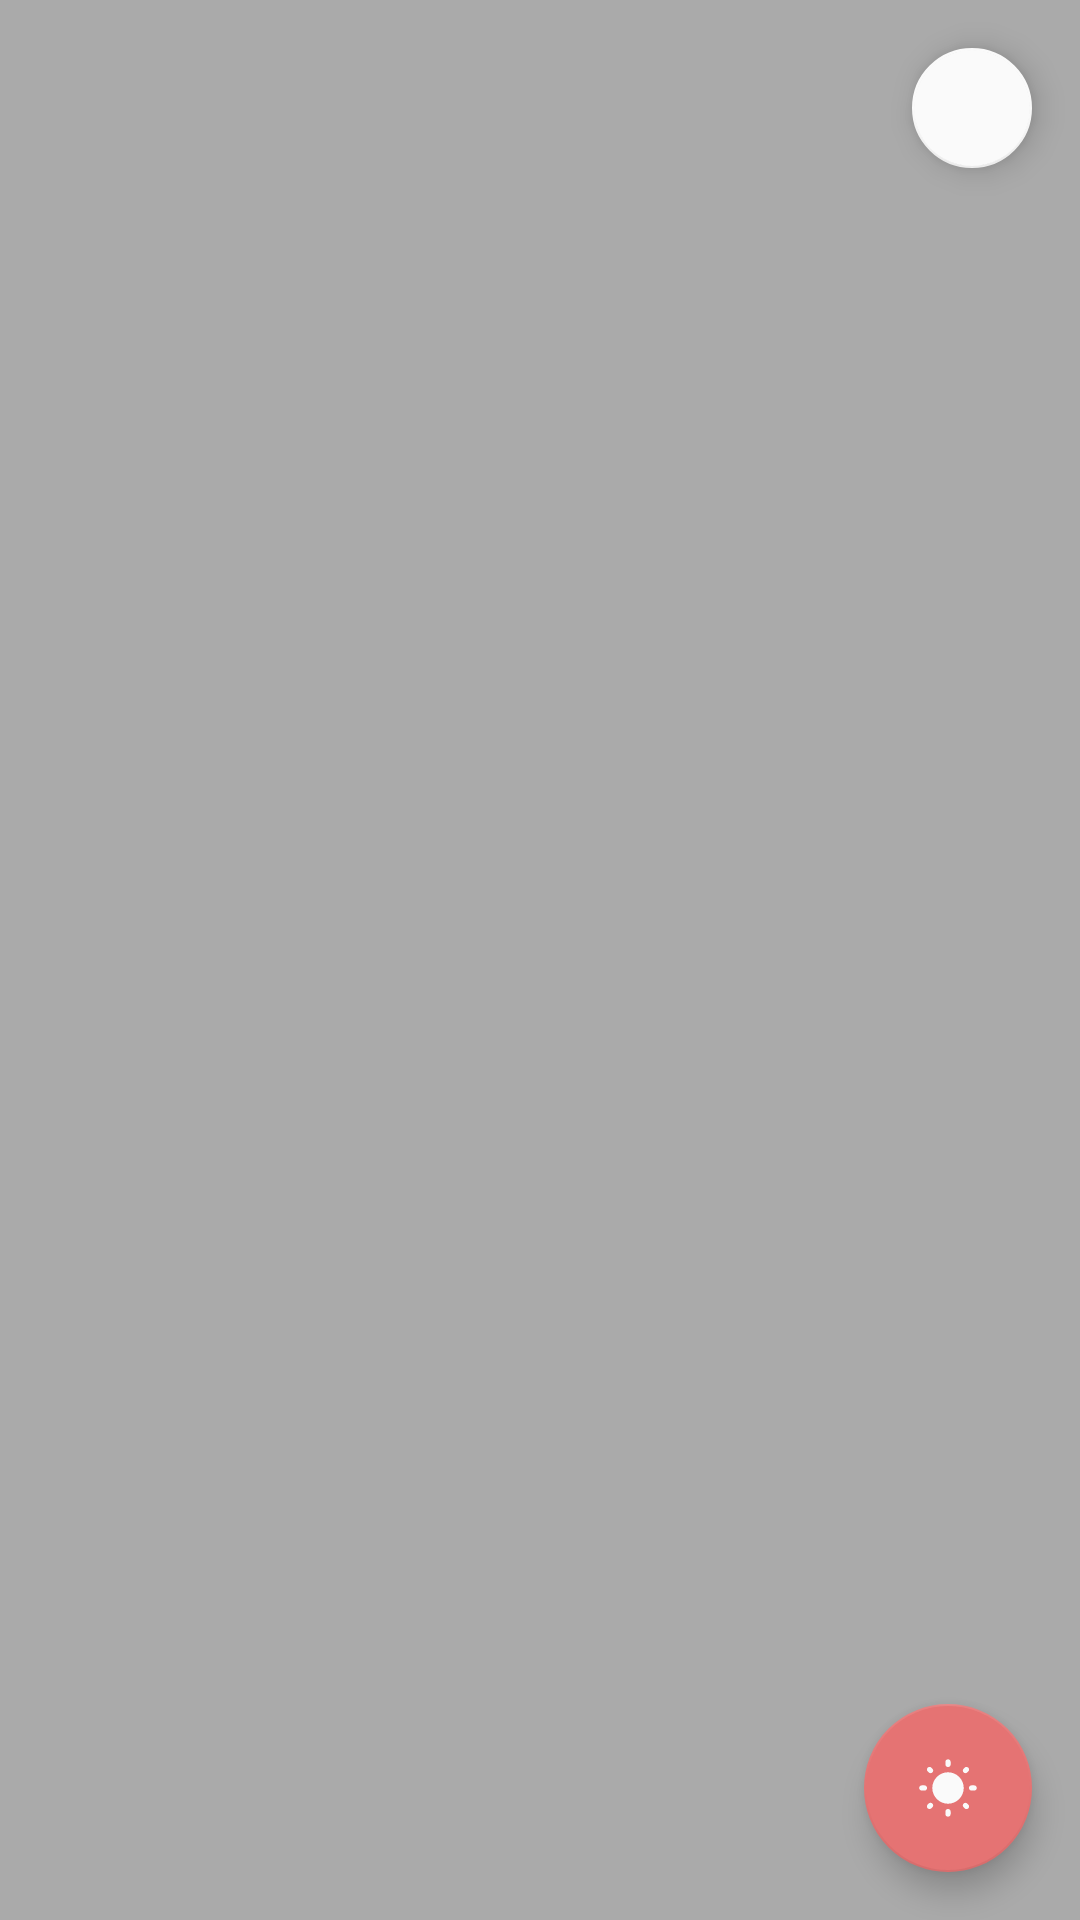

Named icons in this screenshot (1080*1920) and their bounding boxes, (x1, y1, x2, y2):
dia: (864, 1704, 1032, 1872)
